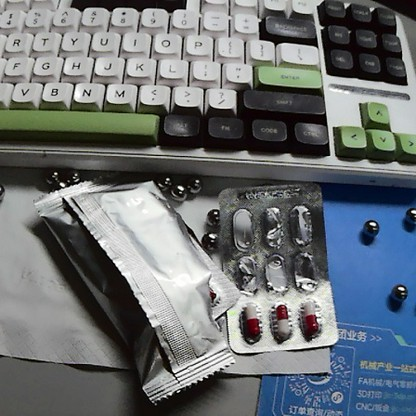ironball: (358, 218, 390, 243), (383, 281, 412, 306), (206, 204, 233, 229), (39, 164, 65, 188), (58, 164, 81, 189), (198, 228, 223, 250), (148, 166, 171, 189), (185, 174, 208, 194), (168, 184, 193, 202), (402, 203, 414, 229)
